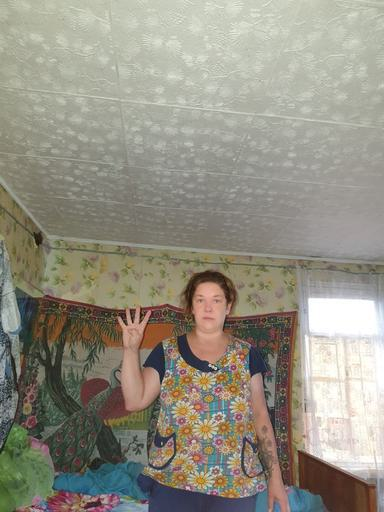four: (116, 305, 153, 351)
